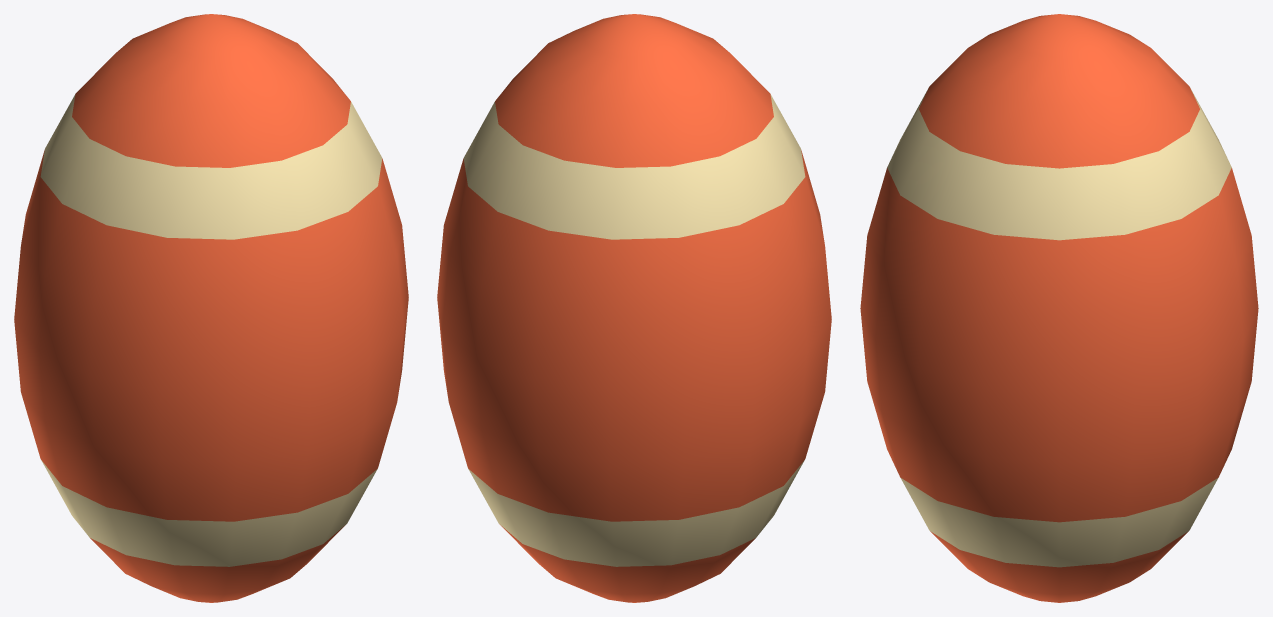
The model's file is rugby_ball.fbx.
The picture shows the model from 3 angles, left to right: view 1: azimuth 30°, elevation 25°; view 2: azimuth 150°, elevation 25°; view 3: azimuth 270°, elevation 25°; orthographic projection.
Visible parts, largest first — view 1: rugby_ball; view 2: rugby_ball; view 3: rugby_ball.
Boxes of the visible parts, box(x1,y1,x2,y2) form: rugby_ball: box(14, 14, 408, 602); rugby_ball: box(437, 14, 831, 602); rugby_ball: box(860, 14, 1258, 602).
Bounding box in the file's own units: 9.23 × 15.06 × 9.23.
